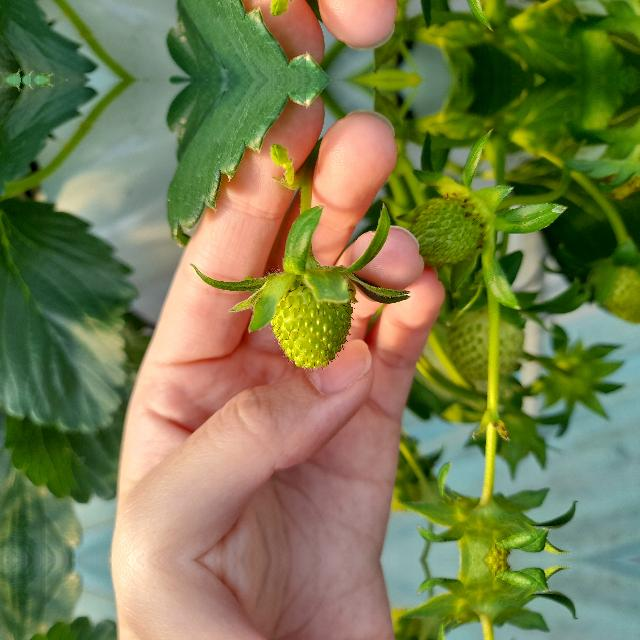Health_25: (269, 275, 355, 371), (410, 195, 486, 268)
